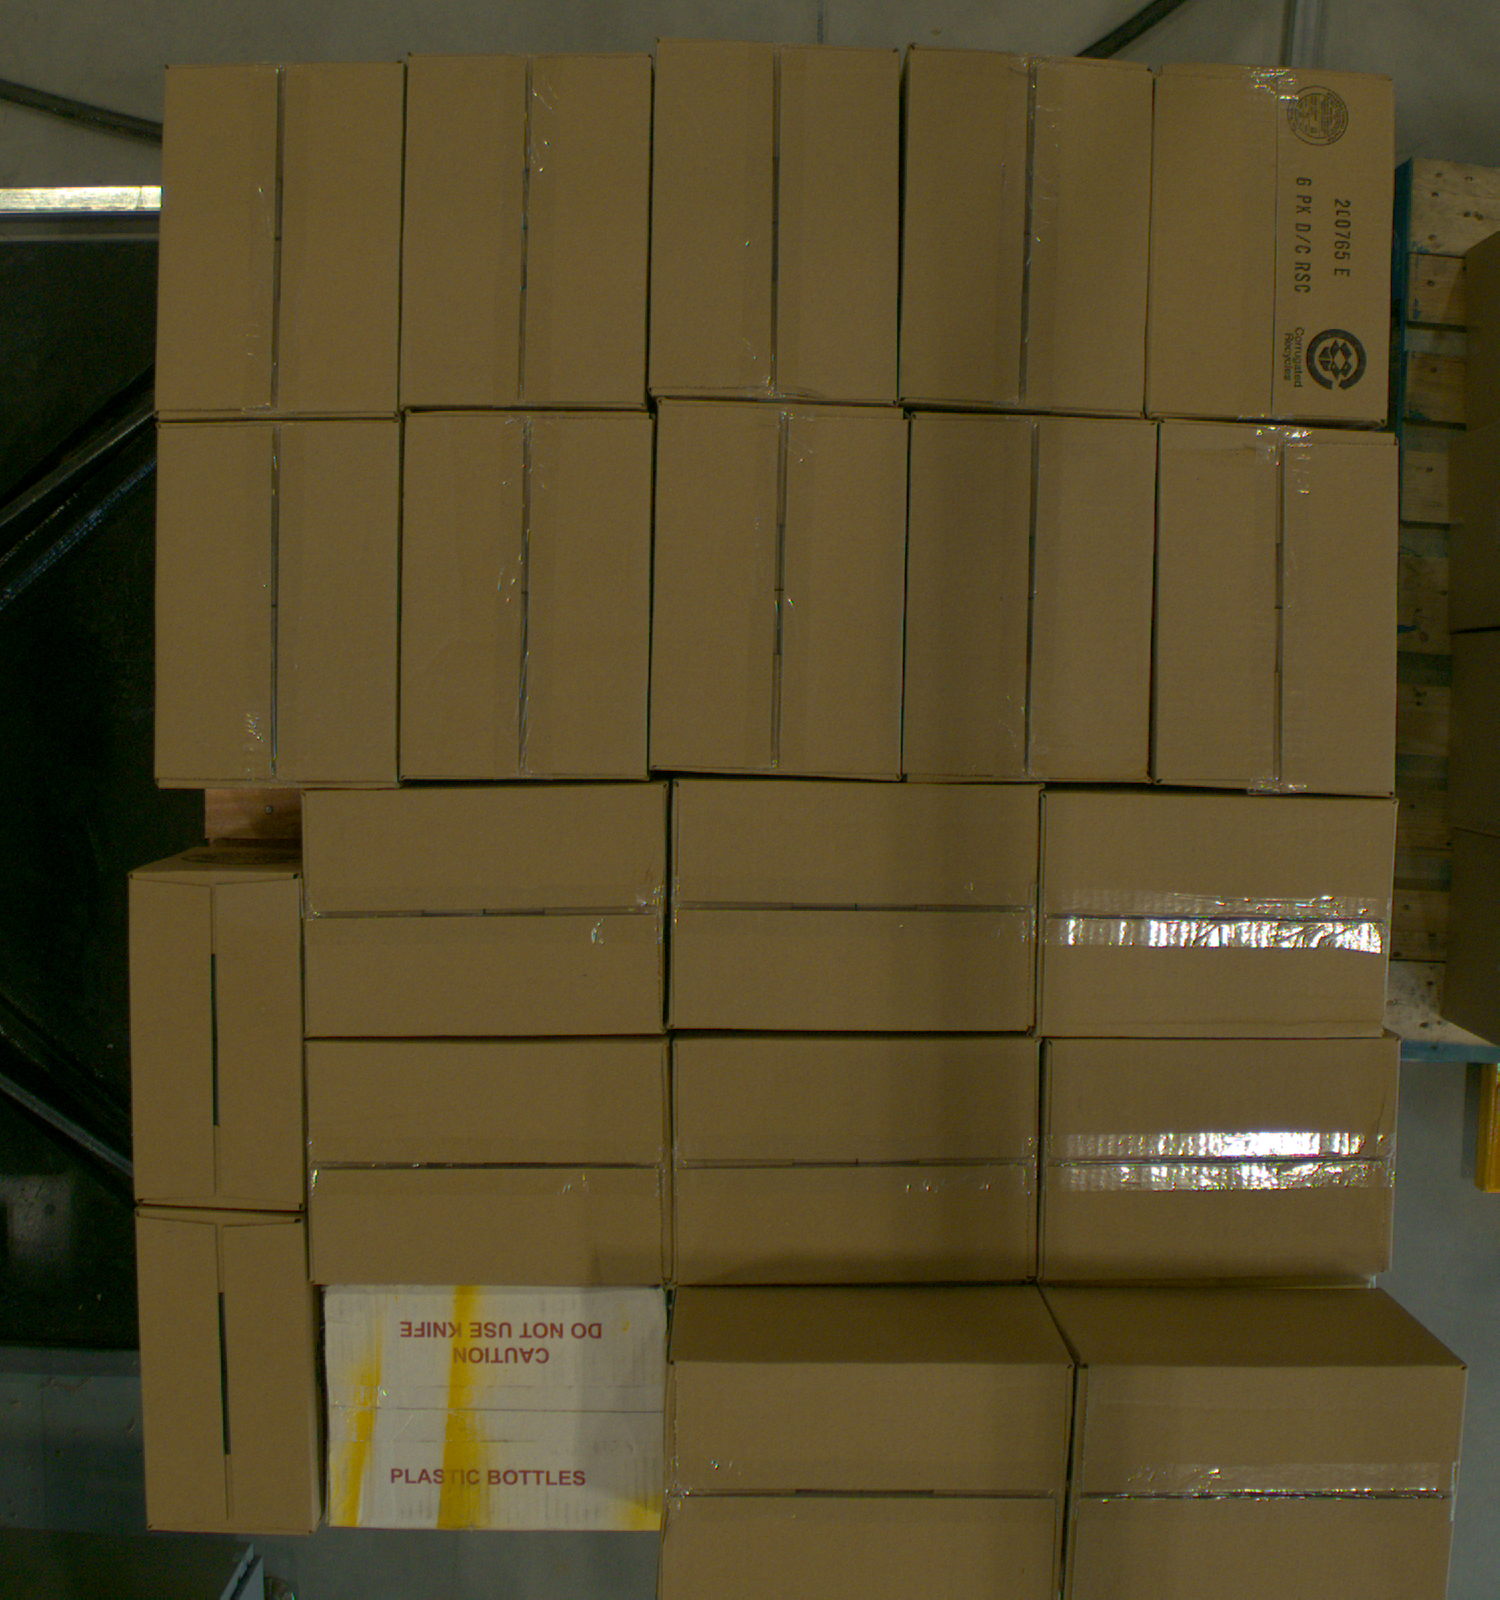box top: (657, 1363, 1076, 1600), (651, 399, 909, 781), (899, 47, 1153, 419), (1064, 1367, 1469, 1600), (400, 412, 654, 781), (904, 414, 1157, 781), (671, 780, 1039, 1030), (1155, 419, 1398, 796), (305, 785, 667, 1038), (650, 38, 899, 403), (154, 59, 405, 419), (400, 52, 653, 407), (1148, 63, 1394, 426), (158, 419, 400, 787), (674, 1040, 1040, 1283), (1036, 794, 1397, 1038), (307, 1043, 671, 1283), (1040, 1039, 1398, 1279), (326, 1286, 665, 1532), (135, 1208, 314, 1534), (131, 875, 305, 1210)
